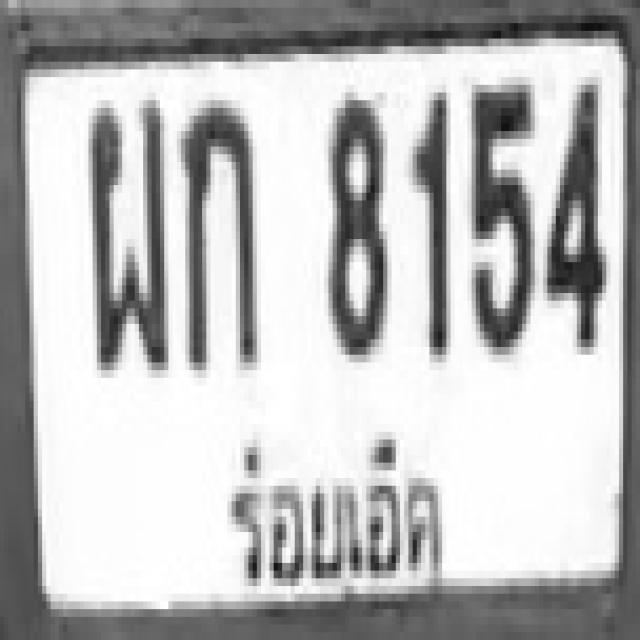-: (84, 92, 164, 362), (176, 92, 252, 362)
1: (408, 89, 446, 351)
4: (543, 73, 602, 343)
5: (468, 77, 530, 347)
8: (324, 93, 383, 347)
RET: (219, 419, 453, 605)
